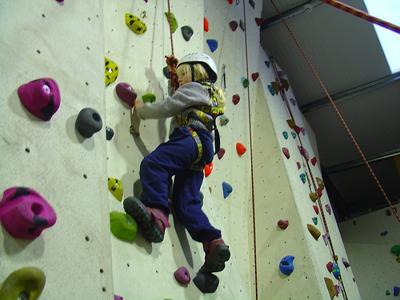person: (123, 52, 231, 275)
